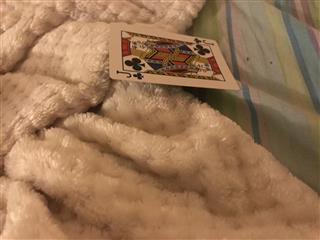JackOfClubs: (108, 22, 240, 90)
